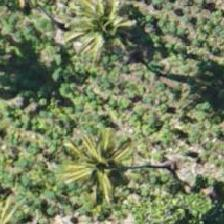coconut_tree: (51, 128, 141, 218), (53, 0, 143, 67), (0, 175, 66, 223)
